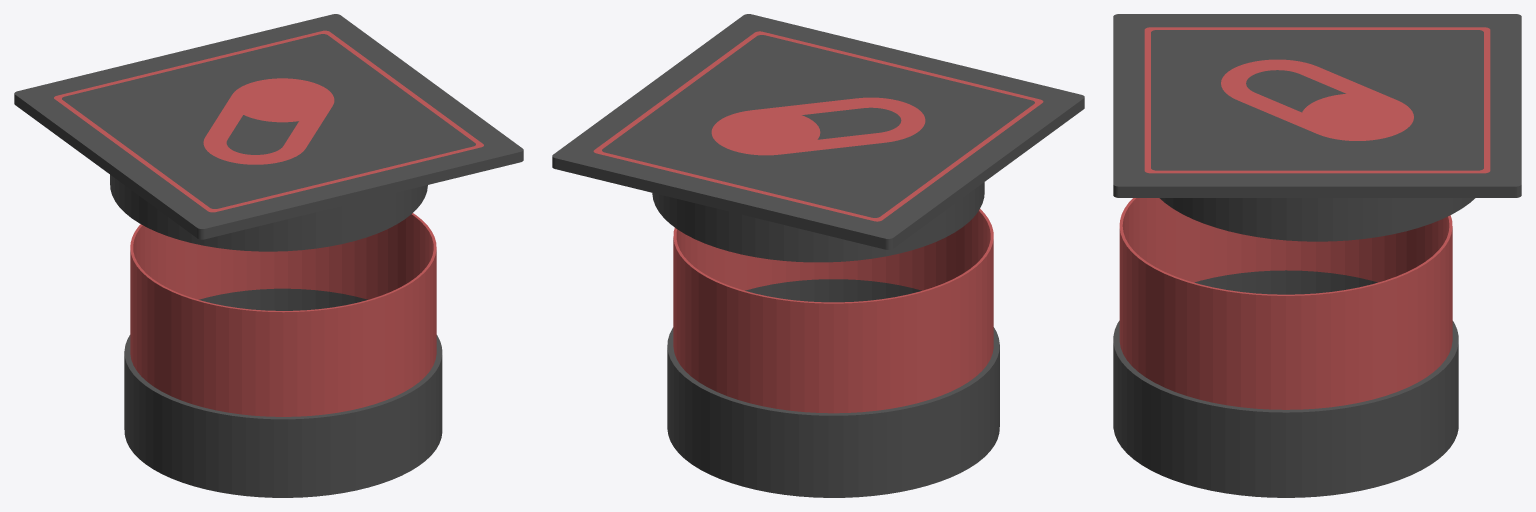
Rendered from bomboniera-farmacia-facolta-aperto.glb.
3 views of the same model, side by side, from view 1: azimuth 30°, elevation 25°; view 2: azimuth 150°, elevation 25°; view 3: azimuth 270°, elevation 25° (orthographic). The views are drawn at different scales.
Visible parts, largest first — view 1: struttura_coperchio, fascia, struttura_base, simbolo_intarsio, bordo; view 2: struttura_coperchio, fascia, struttura_base, simbolo_intarsio, bordo; view 3: struttura_coperchio, fascia, struttura_base, simbolo_intarsio, bordo.
Part boxes in pixels (x1,y1,x2,y2): struttura_coperchio: [14, 14, 523, 251]; fascia: [130, 213, 436, 416]; struttura_base: [124, 288, 442, 497]; simbolo_intarsio: [203, 78, 334, 164]; bordo: [54, 30, 483, 212]; struttura_coperchio: [552, 14, 1084, 262]; fascia: [673, 209, 993, 413]; struttura_base: [667, 279, 999, 497]; simbolo_intarsio: [711, 97, 925, 155]; bordo: [593, 31, 1043, 221]; struttura_coperchio: [1113, 14, 1521, 241]; fascia: [1119, 198, 1452, 409]; struttura_base: [1113, 270, 1458, 497]; simbolo_intarsio: [1221, 59, 1413, 140]; bordo: [1144, 27, 1490, 173].
Bounding box in the file's own units: 0.065 × 0.057 × 0.065.
